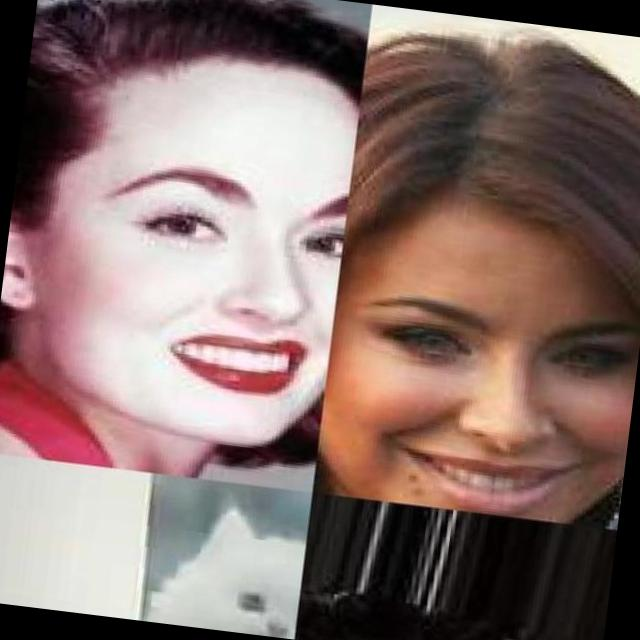bareface: (53, 27, 364, 470)
